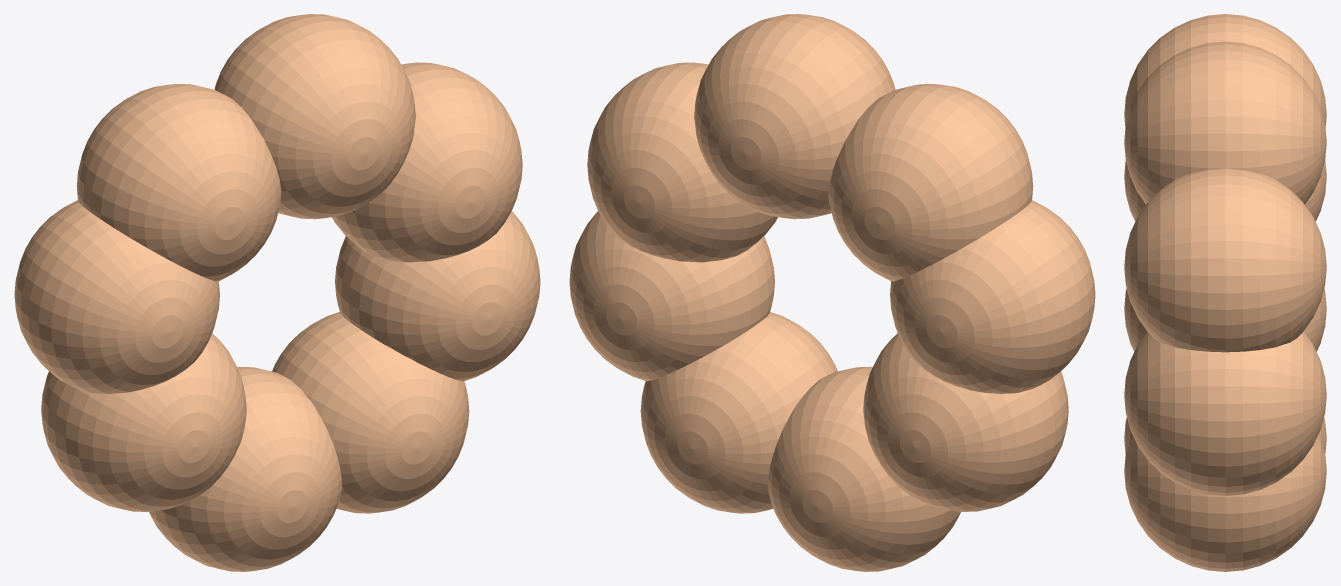
The model's file is tinker.obj.
3 renders of one model, left to right at view 1: azimuth 30°, elevation 25°; view 2: azimuth 150°, elevation 25°; view 3: azimuth 270°, elevation 25°, orthographic.
Visible parts, largest first — view 1: obj_0; view 2: obj_0; view 3: obj_0.
Boxes of the visible parts, <box> form: obj_0: <box>14,14,540,571</box>; obj_0: <box>569,14,1095,571</box>; obj_0: <box>1124,14,1326,571</box>.
Bounding box in the file's own units: 56 × 56 × 20.
